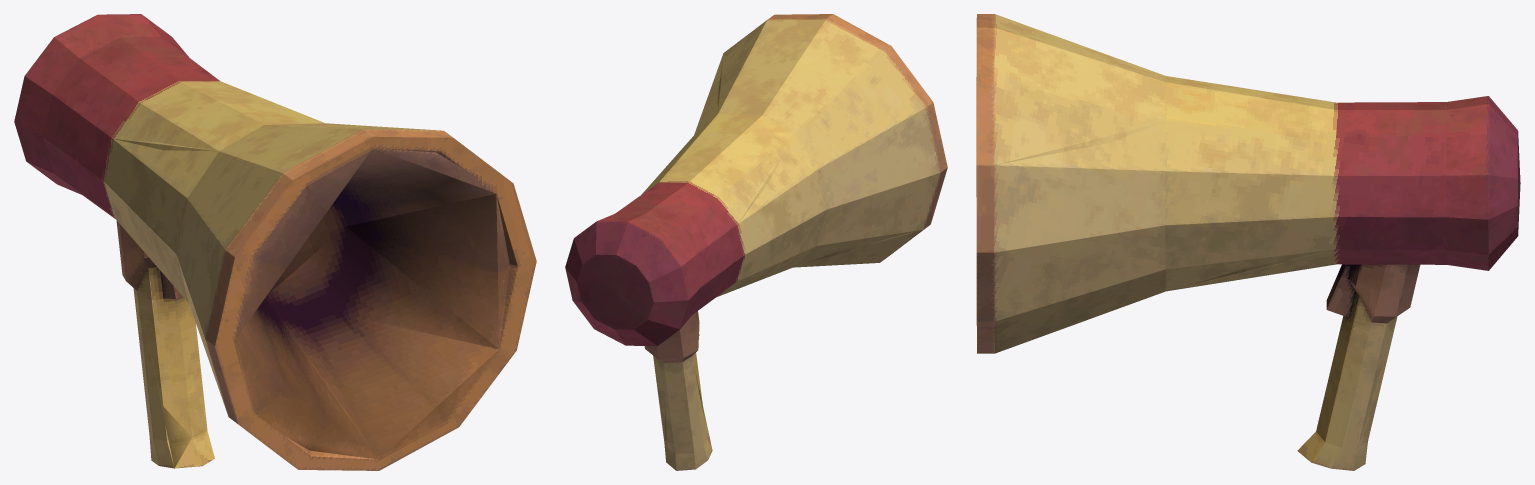
File: item_megaphone.glb
The picture shows the model from 3 angles, left to right: view 1: azimuth 30°, elevation 25°; view 2: azimuth 150°, elevation 25°; view 3: azimuth 270°, elevation 25°; orthographic projection. The views are drawn at different scales.
Visible parts, largest first — view 1: Megaphone; view 2: Megaphone; view 3: Megaphone.
Boxes of the visible parts, x1,y1,x2,y2 form: Megaphone: [14, 14, 536, 470]; Megaphone: [565, 14, 947, 470]; Megaphone: [976, 14, 1520, 470].
Size of the model in its own units: 0.3215 by 0.4516 by 0.512.
Materials: 1 (1 with a texture image).
